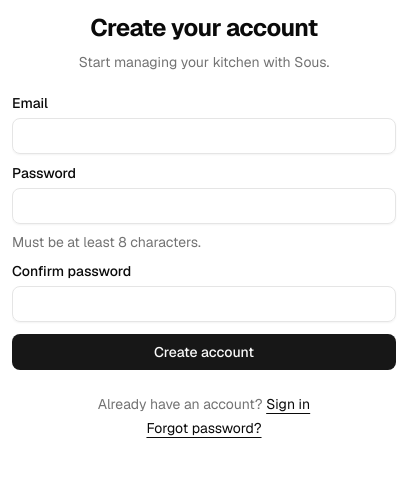
Scenario: RegisterForm › blocks submit when passwords do not match
The image size is (416, 483).
Type "a@b.com" into the field labelled "Email" at (204, 136), box [12,118,396,154]
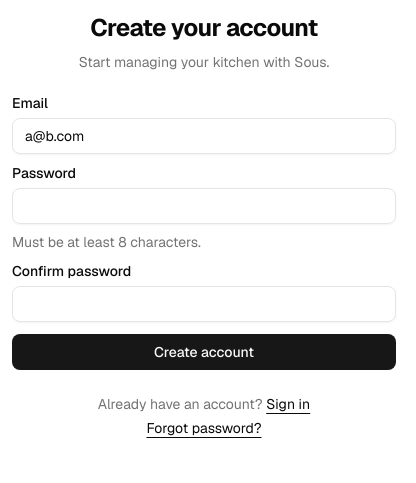
Type "password1" into the password field labelled "Password" at (204, 206), box [12,188,396,224]
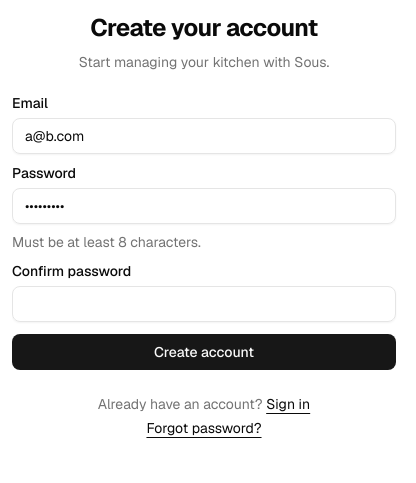
Type "password2" into the password field labelled "Confirm password" at (204, 304), box [12,286,396,322]
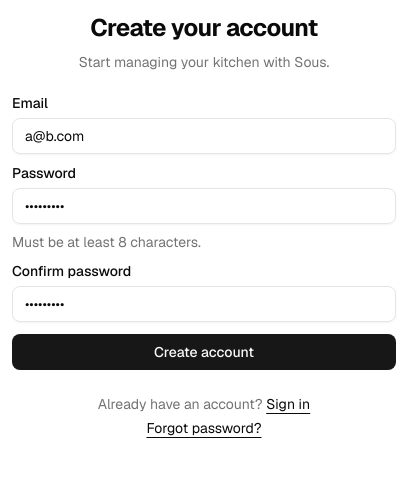
Click the button "Create account" at (204, 352), box [12,334,396,370]
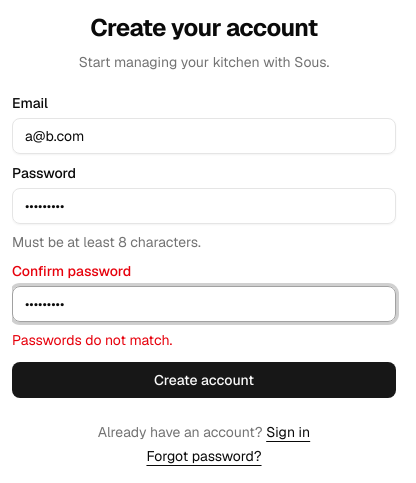
Check: the text "Passwords do not match." is shown, box [12,331,172,349]
